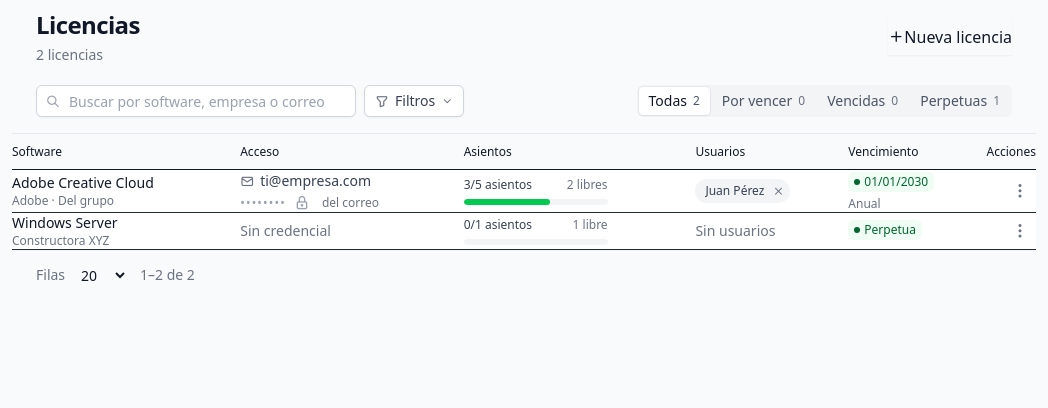
Scenario: LicenciasView.vue — filtros V2 (vistas + chips + URL) › una vista vacía sin filtros es una buena noticia, no "Sin licencias todavía"
Click the button "Vencidas 0". click: x=863, y=101
box: [817,87,908,115]
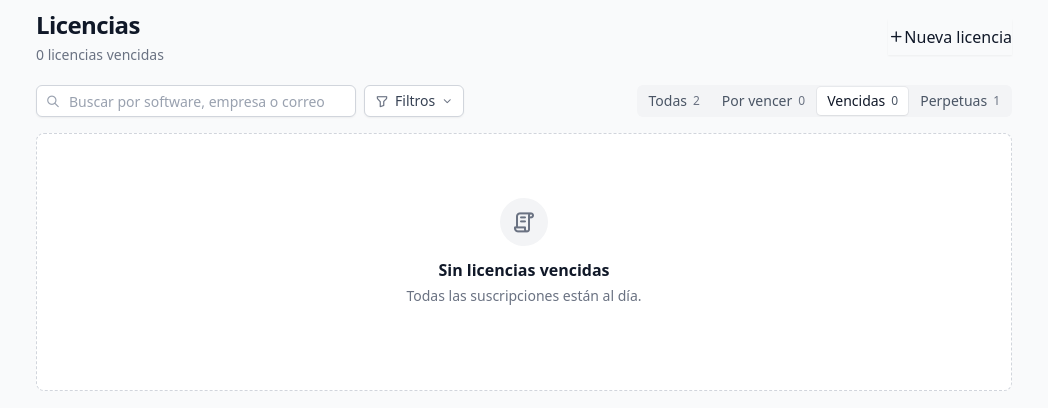
Expected: the text "Sin licencias vencidas" is shown, [438,258,610,282]
